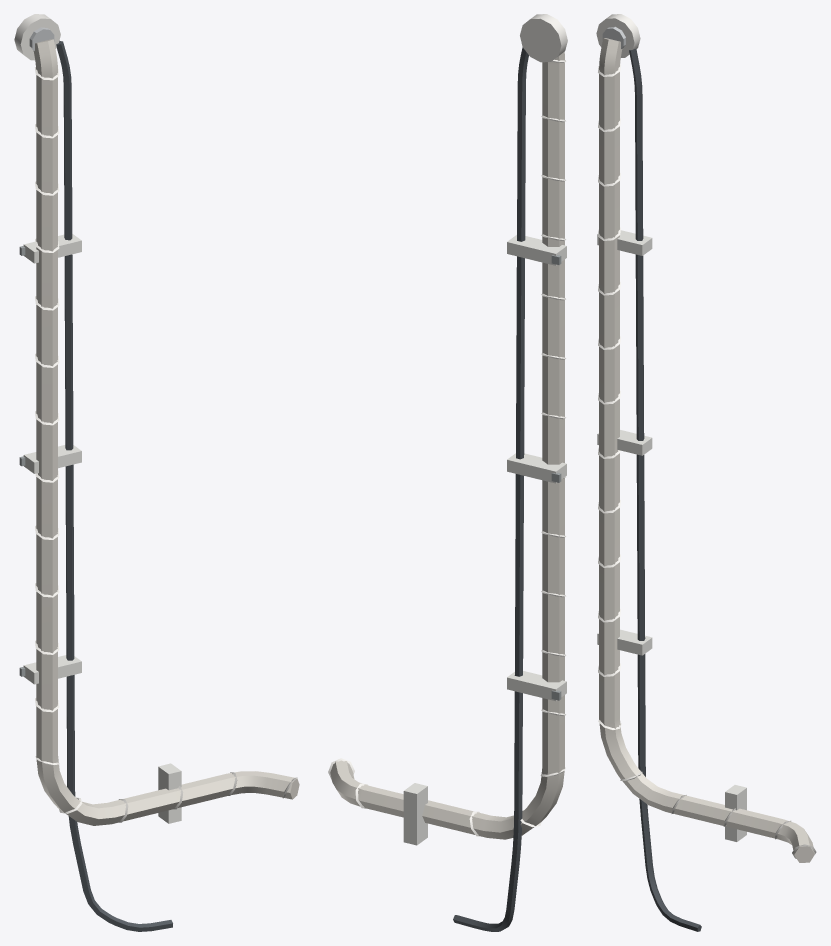
The model's file is SC_Util_AC_Pipe_Run.gltf.
3 renders of one model, left to right at view 1: azimuth 30°, elevation 25°; view 2: azimuth 150°, elevation 25°; view 3: azimuth 330°, elevation 25°, orthographic. The views are drawn at different scales.
Visible parts, largest first — view 1: SC_Util_AC_Pipe_Run; view 2: SC_Util_AC_Pipe_Run; view 3: SC_Util_AC_Pipe_Run.
Part boxes in pixels (bbox=[...]): SC_Util_AC_Pipe_Run: bbox=[14, 14, 299, 931]; SC_Util_AC_Pipe_Run: bbox=[328, 14, 567, 931]; SC_Util_AC_Pipe_Run: bbox=[596, 14, 816, 931].
Size of the model in its own units: 0.6963 by 2.4 by 0.1749.
Materials: 1 (1 with a texture image).
